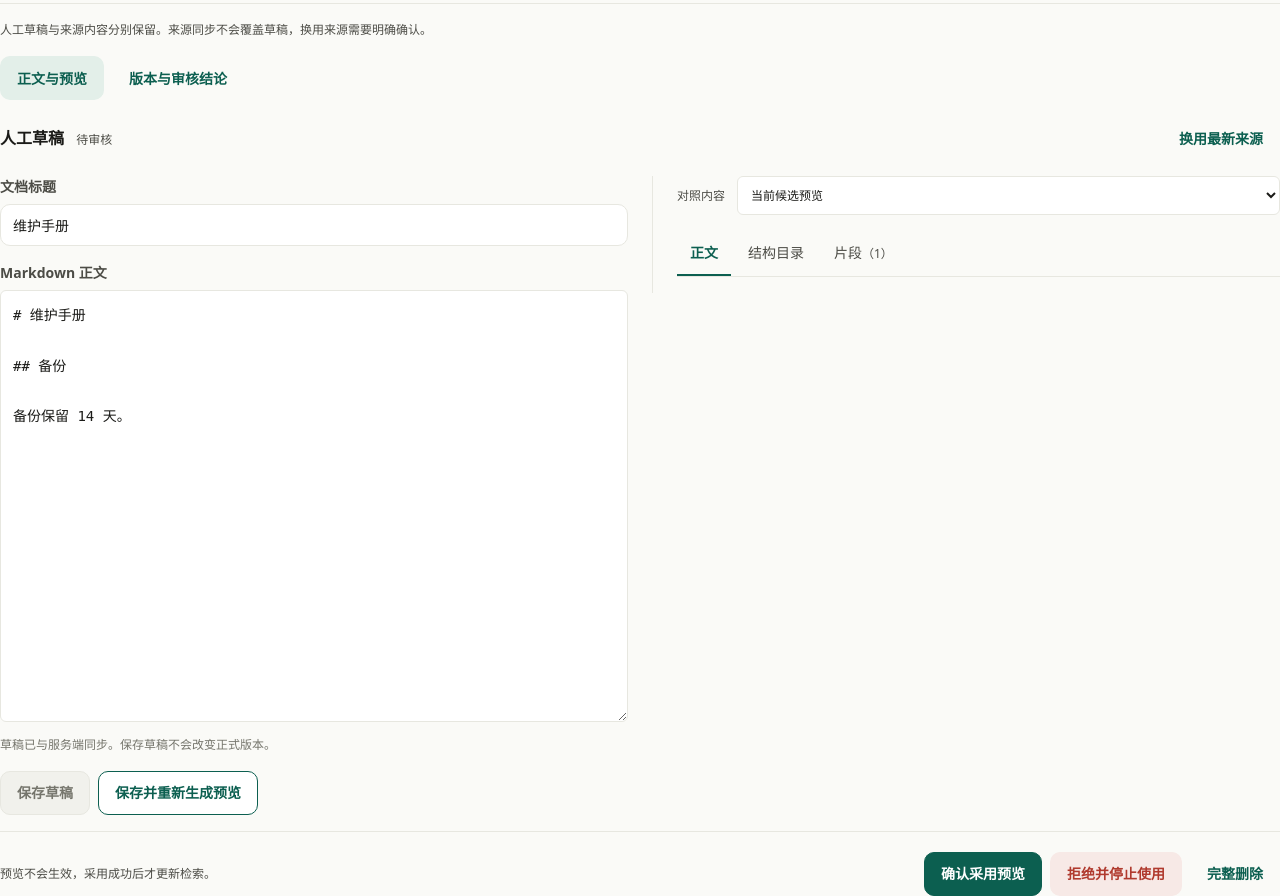
Test case: 文档审核 › 来源更新保留草稿，只有明确换用后才替换编辑内容
The image size is (1280, 896).
(page scrolled)
Replace the text in the text box with class "draft-body" with "保留人工草稿" at {"x": 314, "y": 506}, box [0,290,628,722]
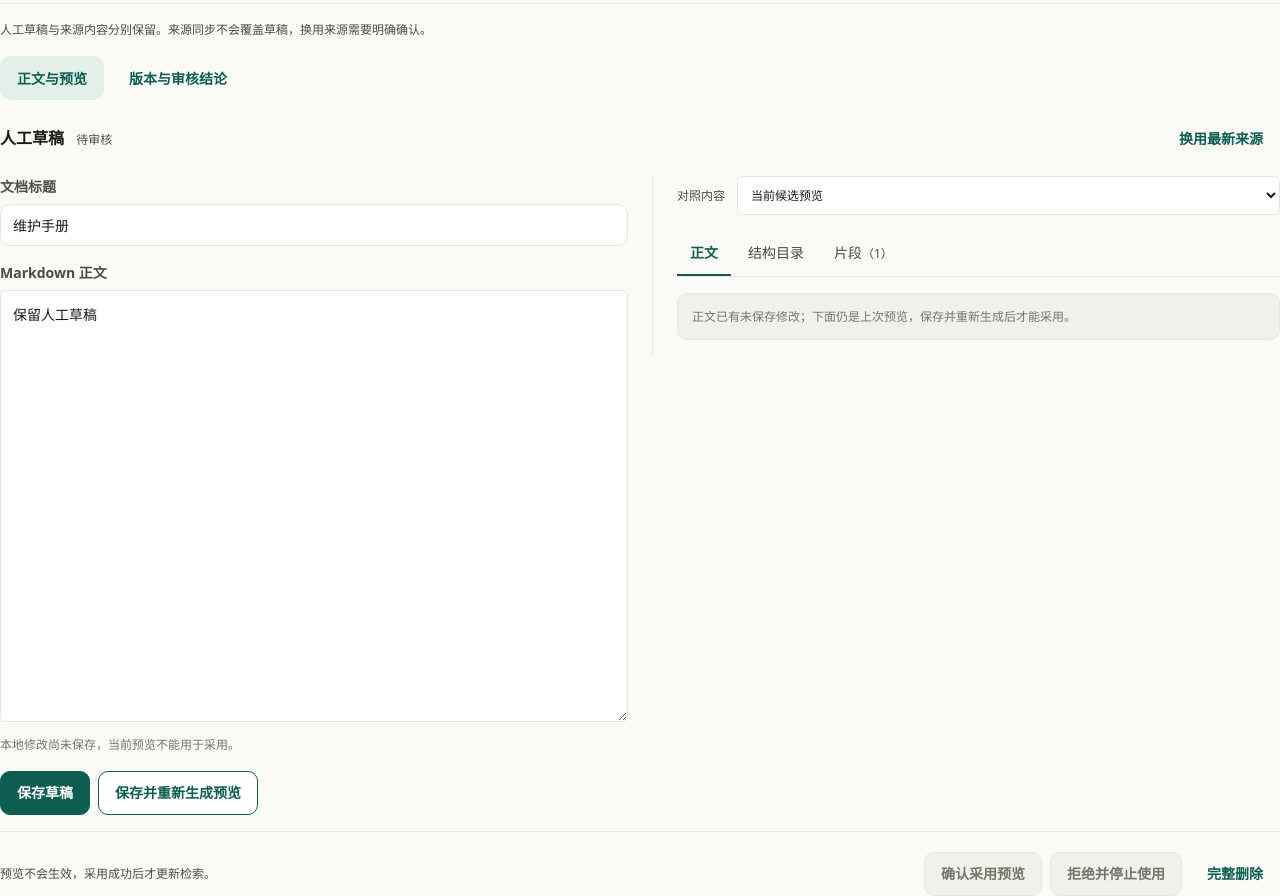
Click the button "换用最新来源" at {"x": 1221, "y": 138}, box [1162,116,1279,160]
(page scrolled)
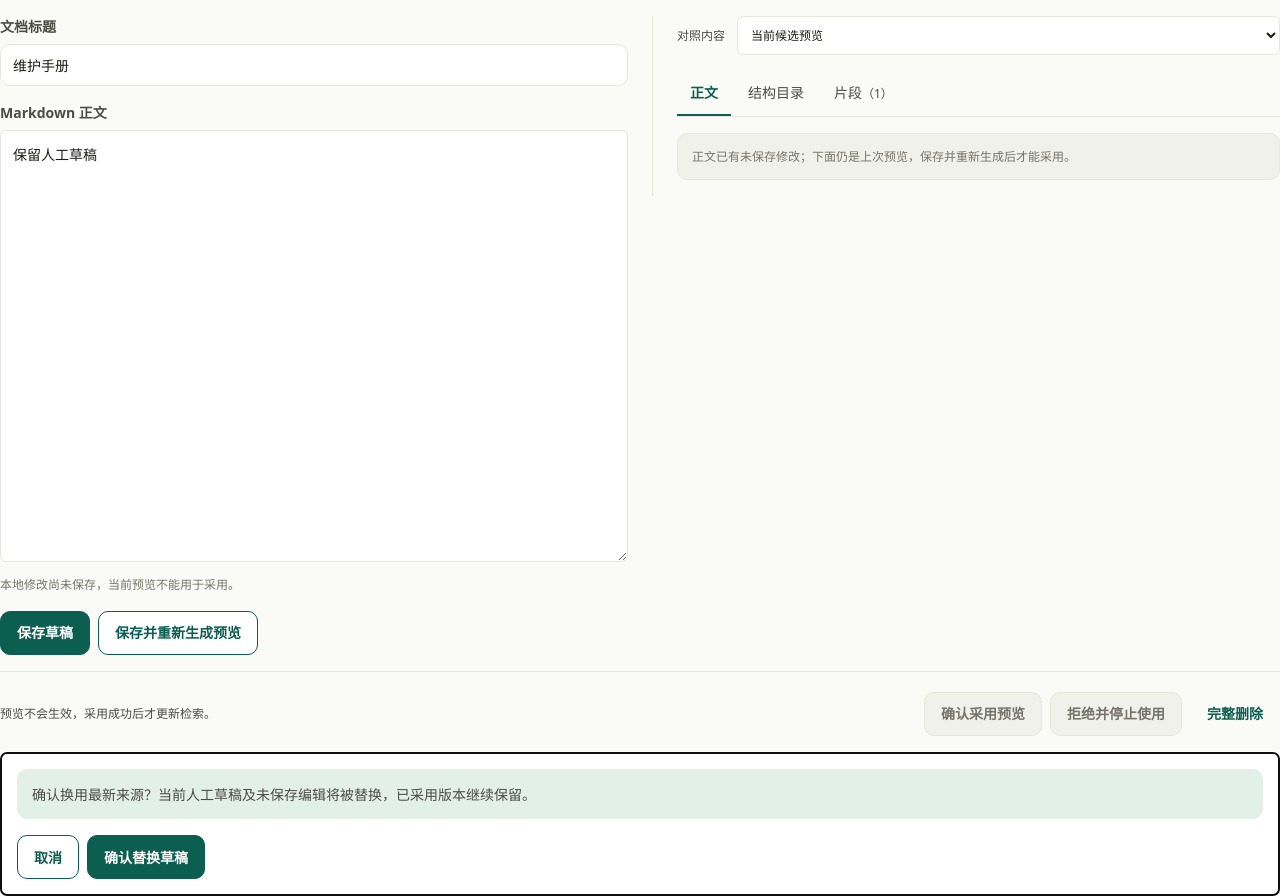
Expected: the text "未保存编辑将被替换" is shown, [32,785,536,804]
Click the button "确认替换草稿" at {"x": 146, "y": 857}, box [87,835,205,879]
(page scrolled)
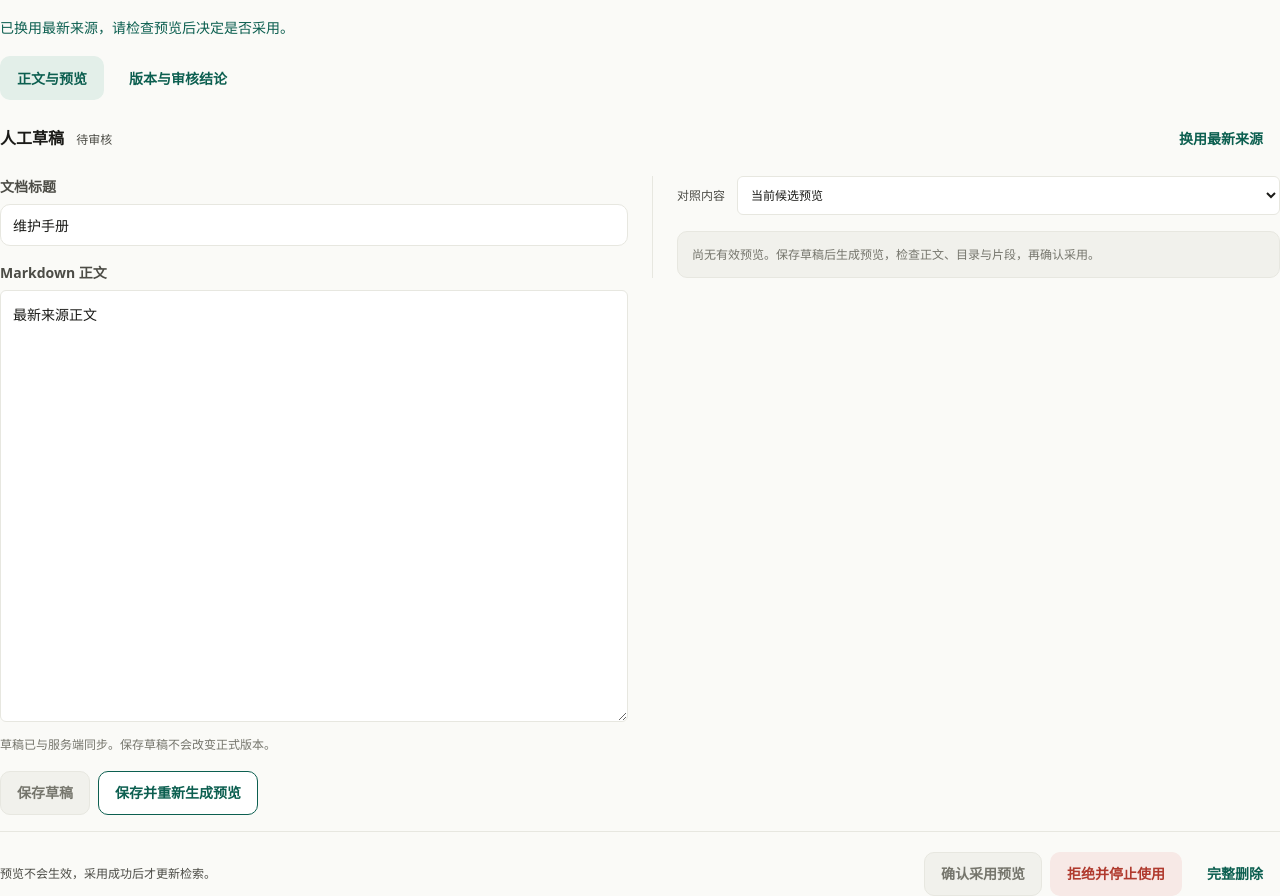
Expected: the text box with class "draft-body" holds "最新来源正文", [0,290,628,722]
